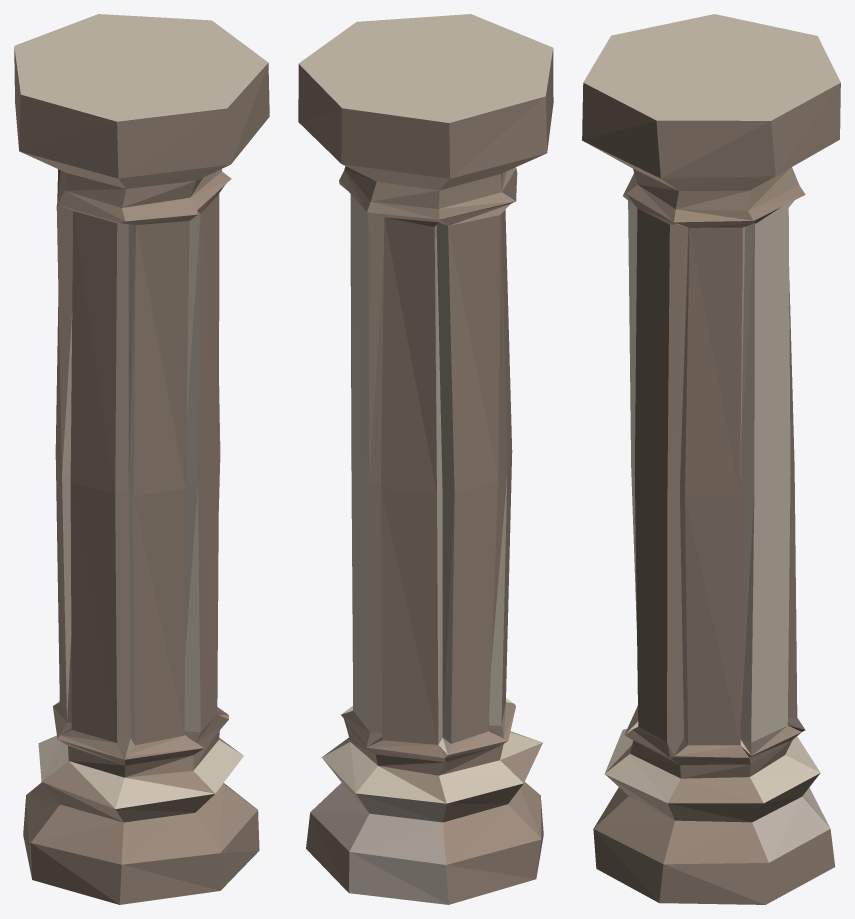
File: RG-Dungeon_Column-01.fbx
3 views of the same model, side by side, from view 1: azimuth 30°, elevation 25°; view 2: azimuth 150°, elevation 25°; view 3: azimuth 270°, elevation 25° (orthographic).
Parts seen in each view (by area): view 1: RG-Dungeon_Column-01; view 2: RG-Dungeon_Column-01; view 3: RG-Dungeon_Column-01.
Boxes of the visible parts, x1,y1,x2,y2 form: RG-Dungeon_Column-01: (14,14,269,904); RG-Dungeon_Column-01: (298,14,553,904); RG-Dungeon_Column-01: (582,14,840,904).
Size of the model in its own units: 4.76 by 16 by 4.77.
